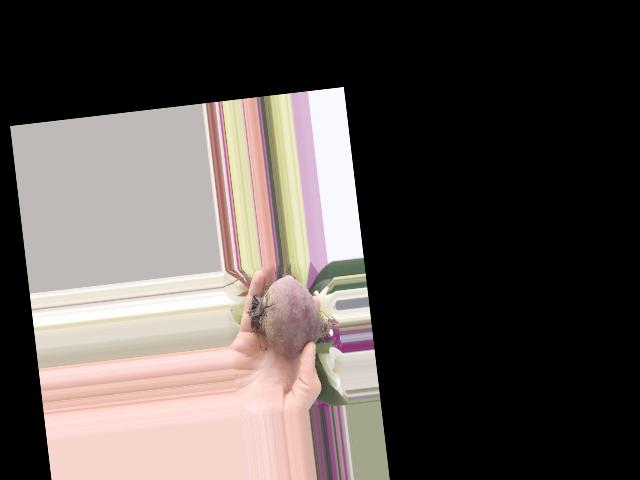beet: (242, 271, 342, 361)
